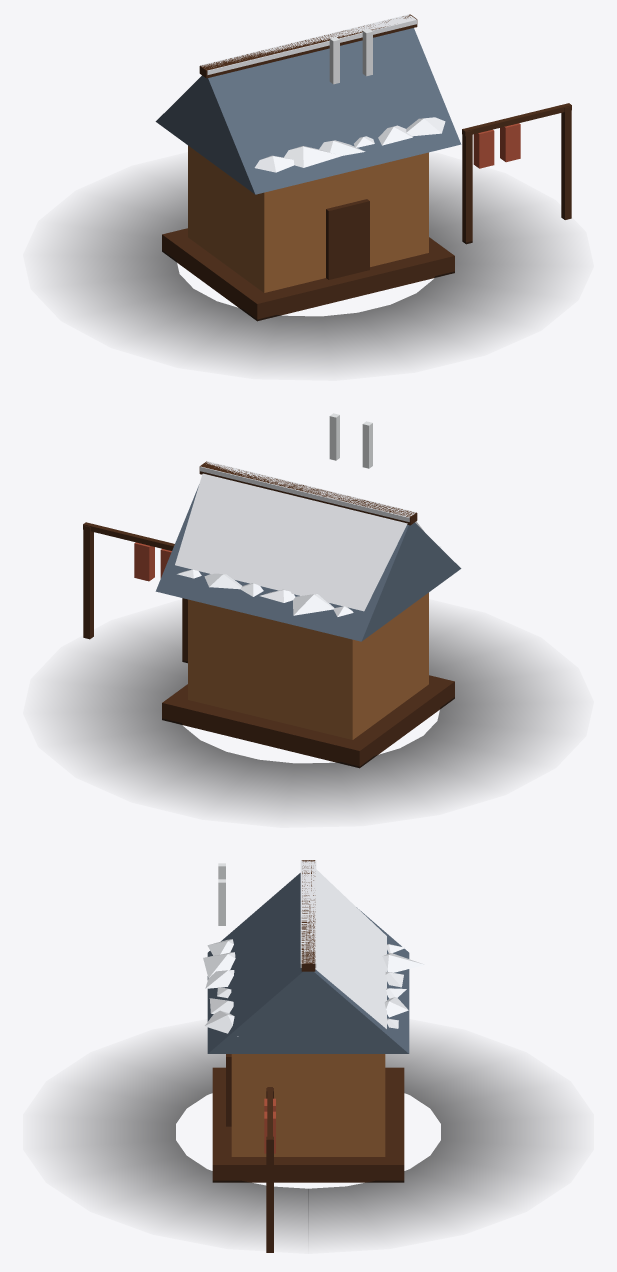
File: hunter_t0.glb
3 views of the same model, one above another, from view 1: azimuth 30°, elevation 25°; view 2: azimuth 150°, elevation 25°; view 3: azimuth 270°, elevation 25° (orthographic).
Parts seen in each view (by area): view 1: hunter_t0; view 2: hunter_t0; view 3: hunter_t0.
Boxes of the visible parts, bbox=[...] form: hunter_t0: bbox=[58, 14, 571, 365]; hunter_t0: bbox=[58, 413, 558, 812]; hunter_t0: bbox=[58, 860, 558, 1252].
Size of the model in its own units: 6.2 by 3 by 6.14.
